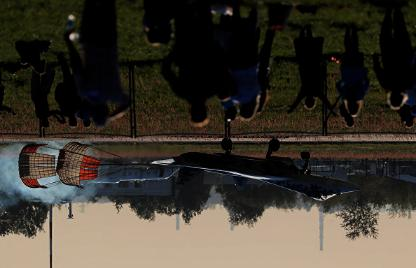SR71: (151, 139, 362, 201)
